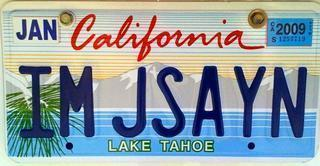placa de veiculo: (4, 1, 315, 161)
